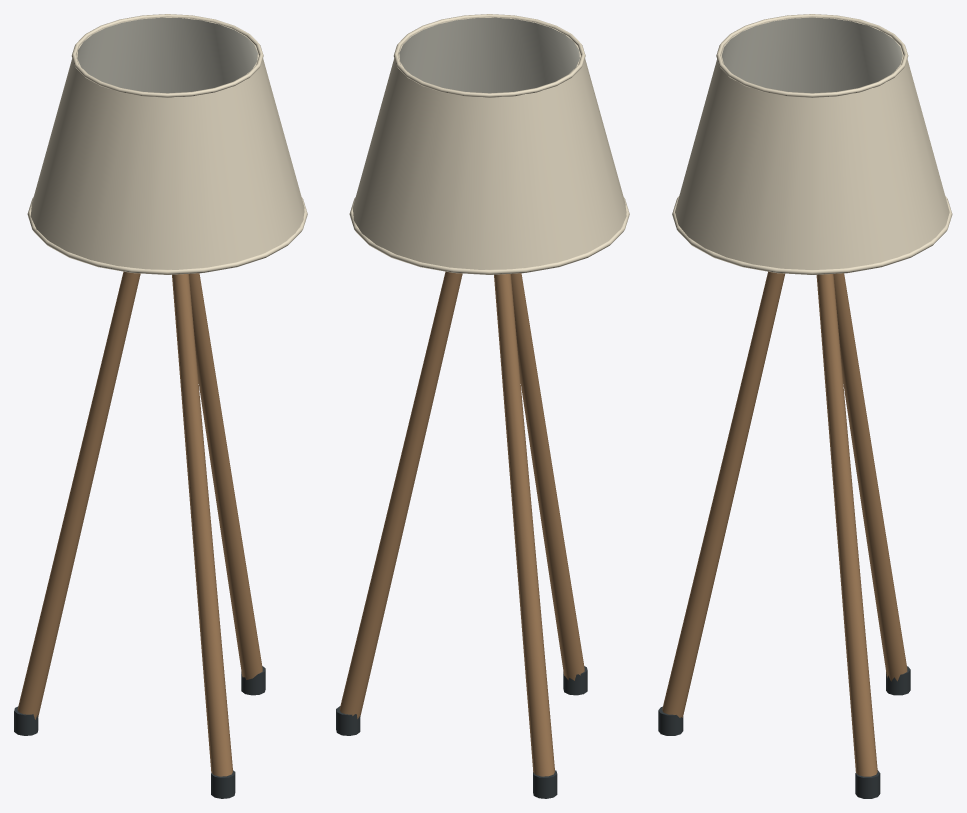
Rendered from lamp_tripod_floor.glb.
3 renders of one model, left to right at view 1: azimuth 30°, elevation 25°; view 2: azimuth 150°, elevation 25°; view 3: azimuth 270°, elevation 25°, orthographic.
Visible parts, largest first — view 1: Tripod_Lamp_Fabric_Shade, Tripod_Lamp_Wood_Leg_2, Tripod_Lamp_Wood_Leg_1, Tripod_Lamp_Wood_Leg_0, Tripod_Lamp_Upper_Hem, Tripod_Lamp_Lower_Hem, Tripod_Lamp_Foot_Cap_2, Tripod_Lamp_Foot_Cap_1; view 2: Tripod_Lamp_Fabric_Shade, Tripod_Lamp_Wood_Leg_1, Tripod_Lamp_Wood_Leg_0, Tripod_Lamp_Wood_Leg_2, Tripod_Lamp_Upper_Hem, Tripod_Lamp_Lower_Hem, Tripod_Lamp_Foot_Cap_1, Tripod_Lamp_Foot_Cap_0; view 3: Tripod_Lamp_Fabric_Shade, Tripod_Lamp_Wood_Leg_0, Tripod_Lamp_Wood_Leg_2, Tripod_Lamp_Wood_Leg_1, Tripod_Lamp_Upper_Hem, Tripod_Lamp_Lower_Hem, Tripod_Lamp_Foot_Cap_0, Tripod_Lamp_Foot_Cap_2.
Boxes of the visible parts, left/top/right/bottom form: Tripod_Lamp_Fabric_Shade: left=30, top=17, right=304, bottom=269; Tripod_Lamp_Wood_Leg_2: left=172, top=274, right=232, bottom=776; Tripod_Lamp_Wood_Leg_1: left=17, top=271, right=140, bottom=719; Tripod_Lamp_Wood_Leg_0: left=189, top=273, right=262, bottom=679; Tripod_Lamp_Upper_Hem: left=71, top=14, right=263, bottom=97; Tripod_Lamp_Lower_Hem: left=27, top=197, right=307, bottom=274; Tripod_Lamp_Foot_Cap_2: left=211, top=770, right=235, bottom=798; Tripod_Lamp_Foot_Cap_1: left=14, top=706, right=38, bottom=735; Tripod_Lamp_Fabric_Shade: left=352, top=17, right=626, bottom=269; Tripod_Lamp_Wood_Leg_1: left=494, top=274, right=554, bottom=776; Tripod_Lamp_Wood_Leg_0: left=339, top=271, right=462, bottom=718; Tripod_Lamp_Wood_Leg_2: left=511, top=273, right=584, bottom=680; Tripod_Lamp_Upper_Hem: left=393, top=14, right=585, bottom=97; Tripod_Lamp_Lower_Hem: left=349, top=197, right=629, bottom=274; Tripod_Lamp_Foot_Cap_1: left=533, top=770, right=557, bottom=798; Tripod_Lamp_Foot_Cap_0: left=336, top=706, right=360, bottom=735; Tripod_Lamp_Fabric_Shade: left=675, top=17, right=949, bottom=269; Tripod_Lamp_Wood_Leg_0: left=816, top=274, right=877, bottom=776; Tripod_Lamp_Wood_Leg_2: left=662, top=271, right=784, bottom=717; Tripod_Lamp_Wood_Leg_1: left=833, top=273, right=907, bottom=681; Tripod_Lamp_Upper_Hem: left=716, top=14, right=908, bottom=97; Tripod_Lamp_Lower_Hem: left=672, top=196, right=952, bottom=274; Tripod_Lamp_Foot_Cap_0: left=855, top=770, right=880, bottom=798; Tripod_Lamp_Foot_Cap_2: left=658, top=706, right=683, bottom=735.
Bounding box in the file's own units: 0.6162 × 1.64 × 0.6396.
